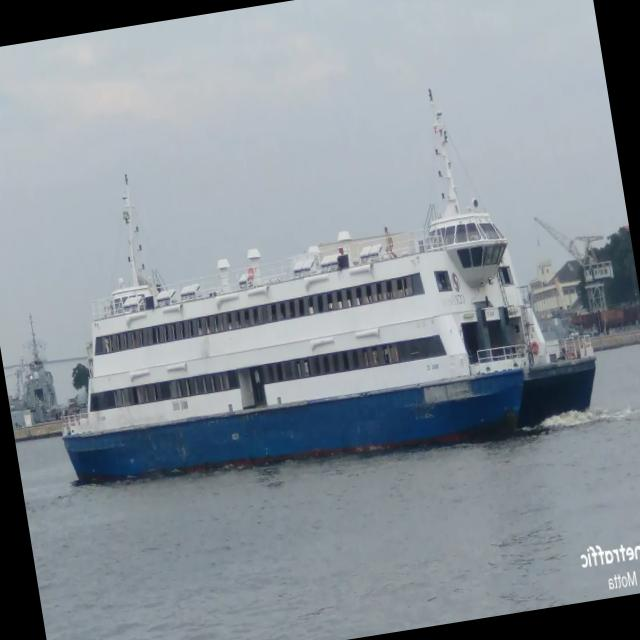Passenger: (63, 105, 595, 480)
